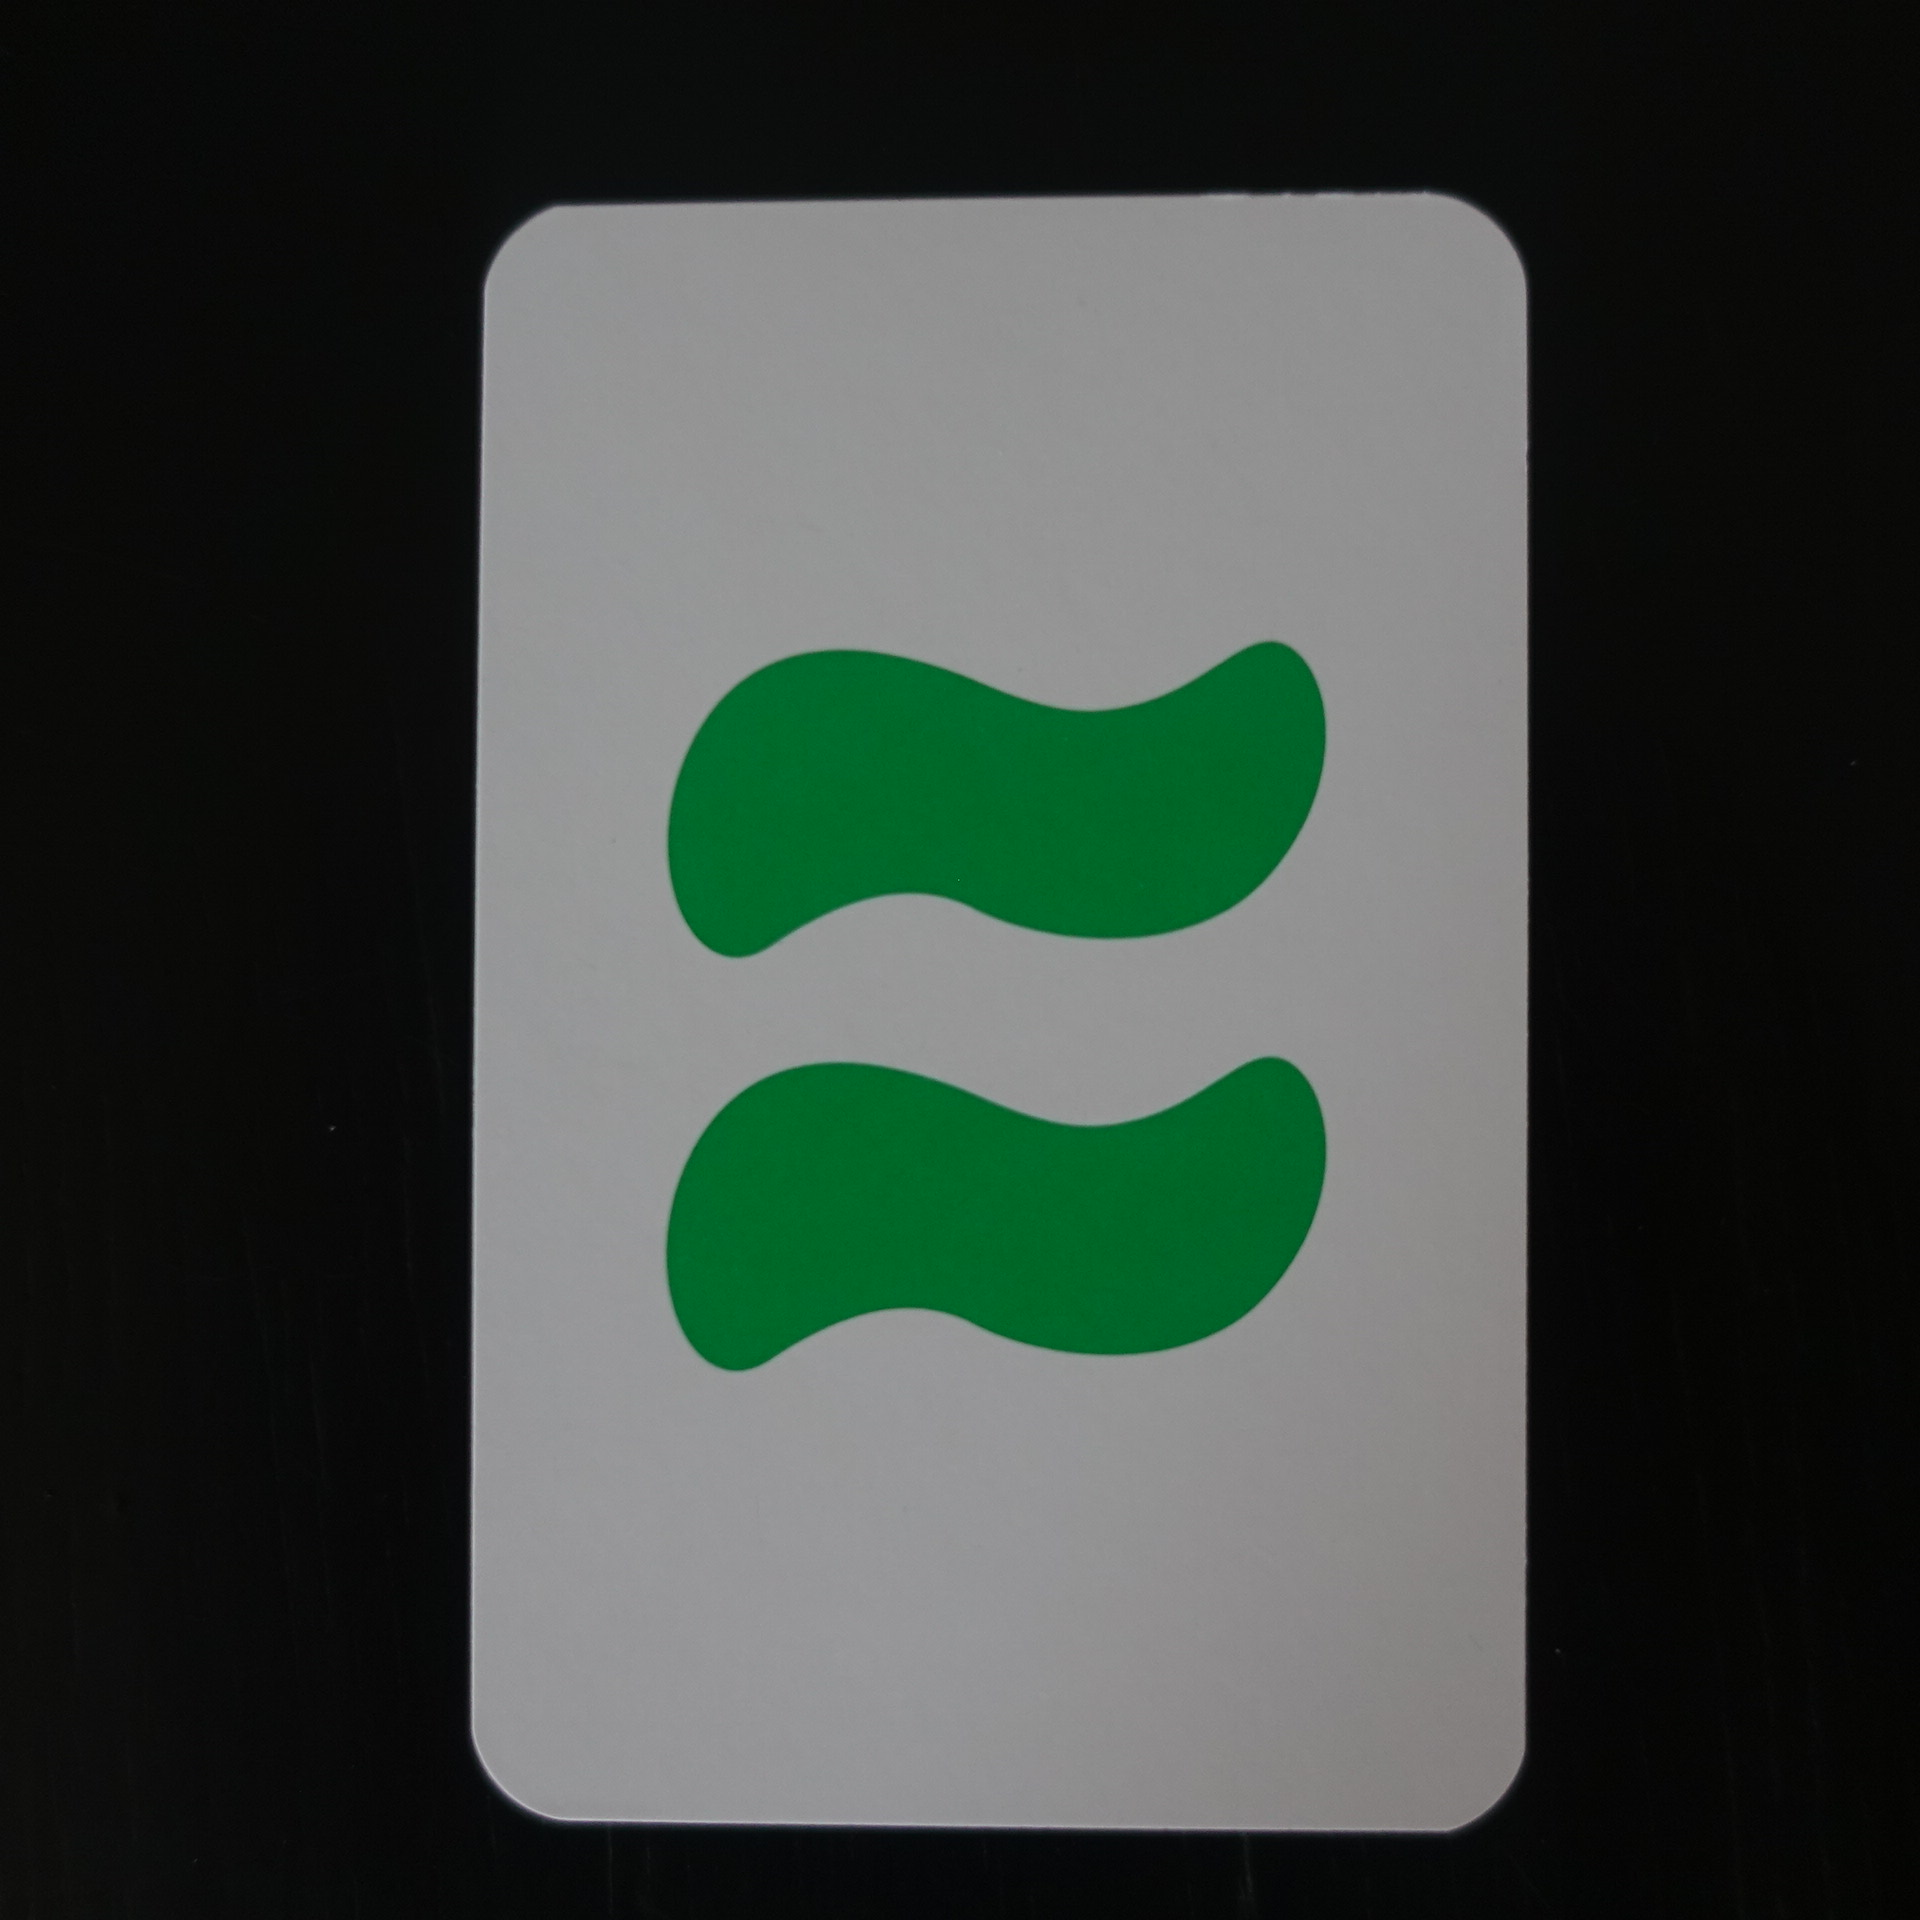c-2-f-d-r: (429, 171, 1554, 1862)
